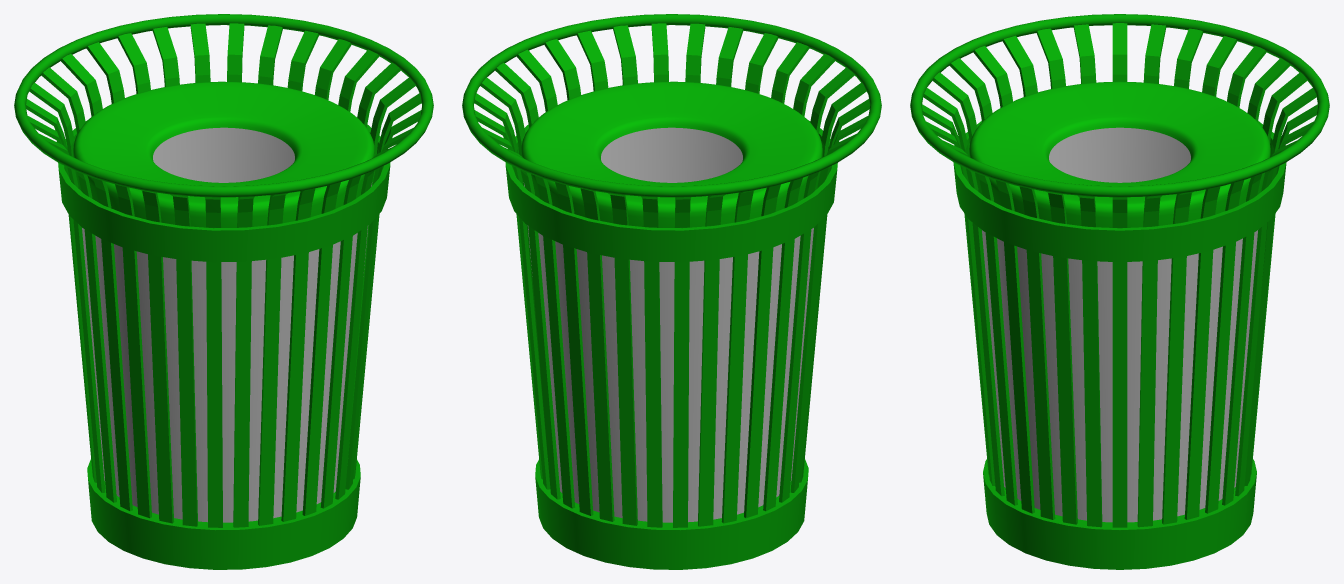
File: bin1.glb
The picture shows the model from 3 angles, left to right: view 1: azimuth 30°, elevation 25°; view 2: azimuth 150°, elevation 25°; view 3: azimuth 270°, elevation 25°; orthographic projection.
Parts seen in each view (by area): view 1: trash_can_frame_Trash_can_frame_Green_paint; view 2: trash_can_frame_Trash_can_frame_Green_paint; view 3: trash_can_frame_Trash_can_frame_Green_paint.
Part boxes in pixels (<box>): trash_can_frame_Trash_can_frame_Green_paint: <box>14,14,433,569</box>; trash_can_frame_Trash_can_frame_Green_paint: <box>462,14,881,569</box>; trash_can_frame_Trash_can_frame_Green_paint: <box>910,14,1329,569</box>.
Size of the model in its own units: 0.9243 by 1 by 0.9243.
